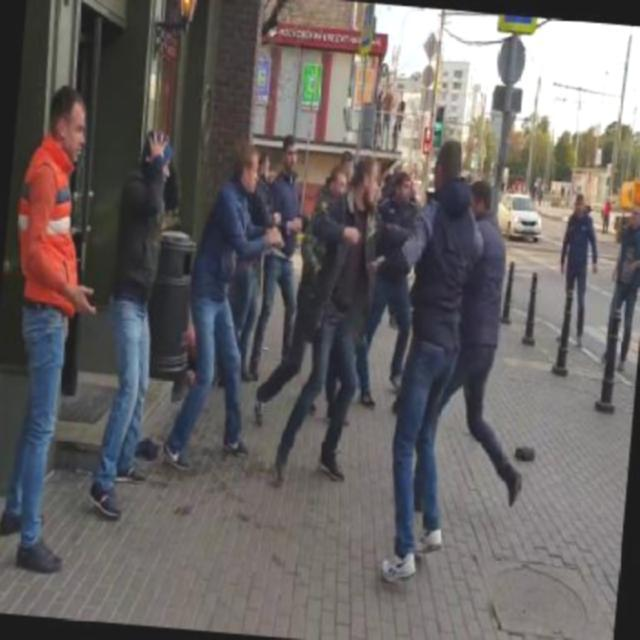fight: (274, 153, 434, 493)
non-fight: (0, 80, 106, 576), (171, 135, 280, 463), (88, 124, 176, 524), (551, 189, 604, 346), (600, 197, 638, 374)
